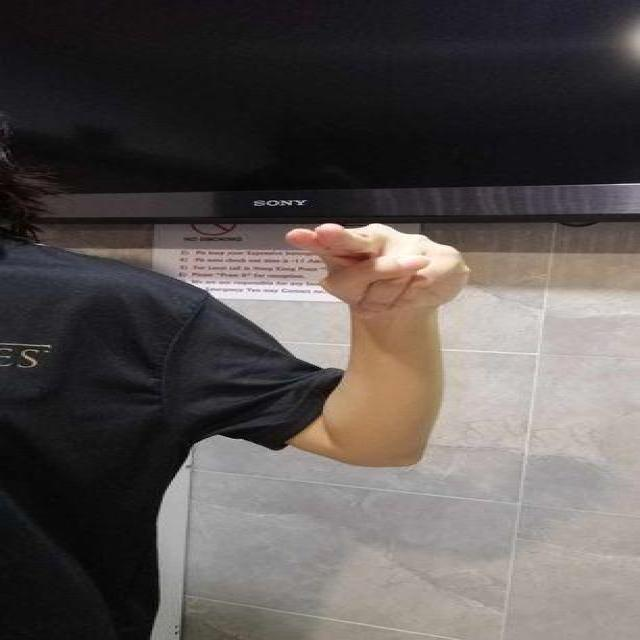N: (285, 222, 472, 314)
